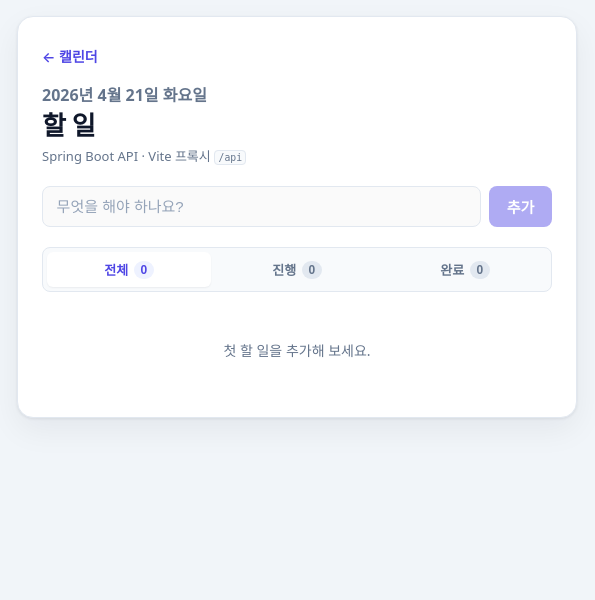
Test case: TodoDayPage › shows generic create error
Type "x" into the field named "새 할 일".
click(262, 206); type("x")  # box x1=42 y1=186 x2=481 y2=227
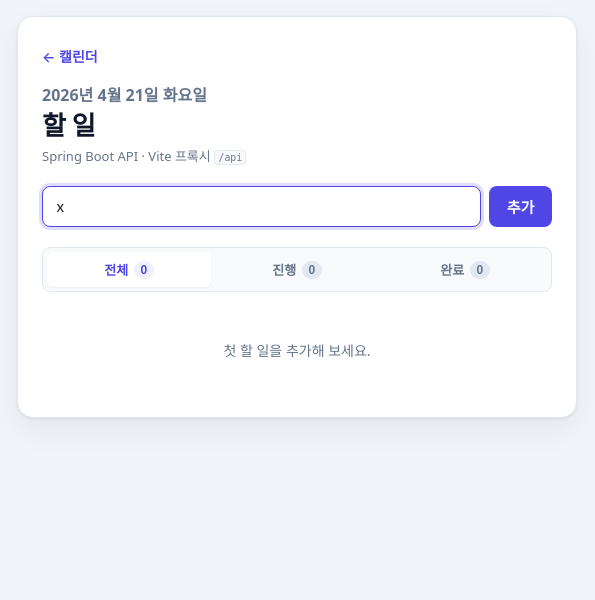
Click the button "추가".
click(521, 206)  # box x1=489 y1=186 x2=552 y2=227
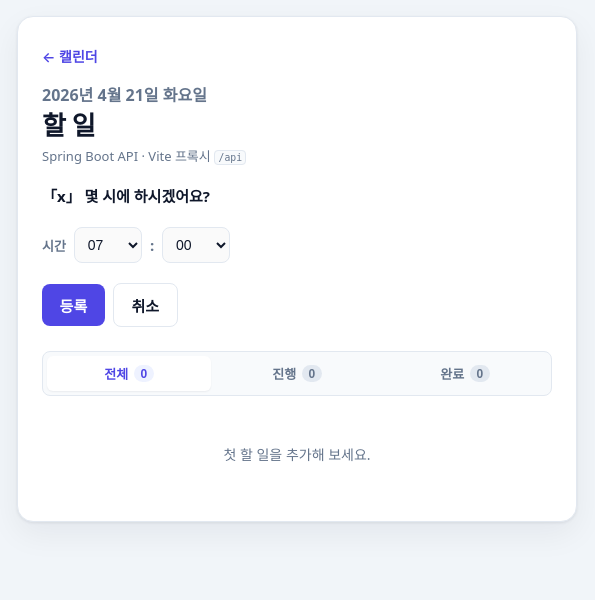
Click the button "등록".
click(73, 305)  # box x1=42 y1=284 x2=105 y2=326
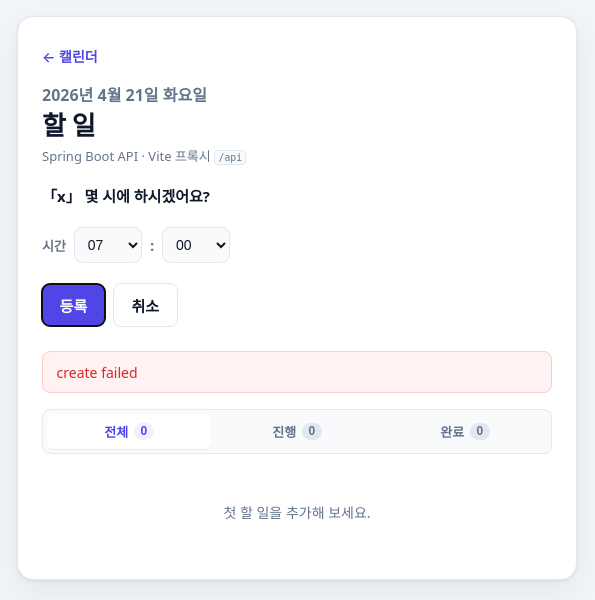
Expected: the message reads "create failed", x1=57 y1=362 x2=138 y2=382
